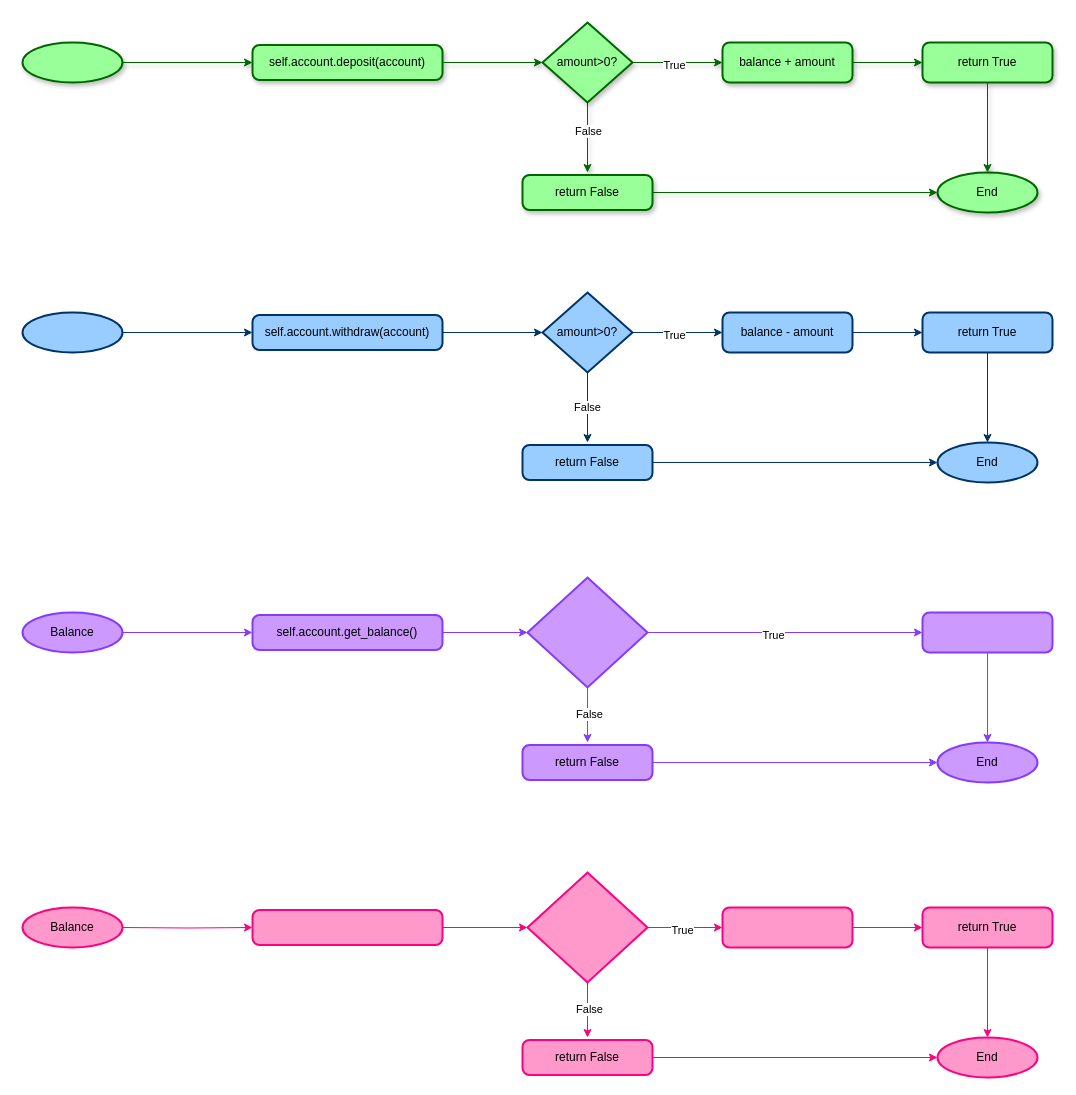
This 1076x1095 diagram has some shape labels left out. The centre of each missing label's shape, as x and y in pixels:
"Create account" goes at (787,927).
"Deposit" goes at (73,63).
"number not in accounts?" goes at (587,927).
"return Balance" goes at (987,632).
"self.bank.create_account(number, name)" goes at (347,927).
"username and password correct?" goes at (587,632).
"Withdraw" goes at (72,332).
